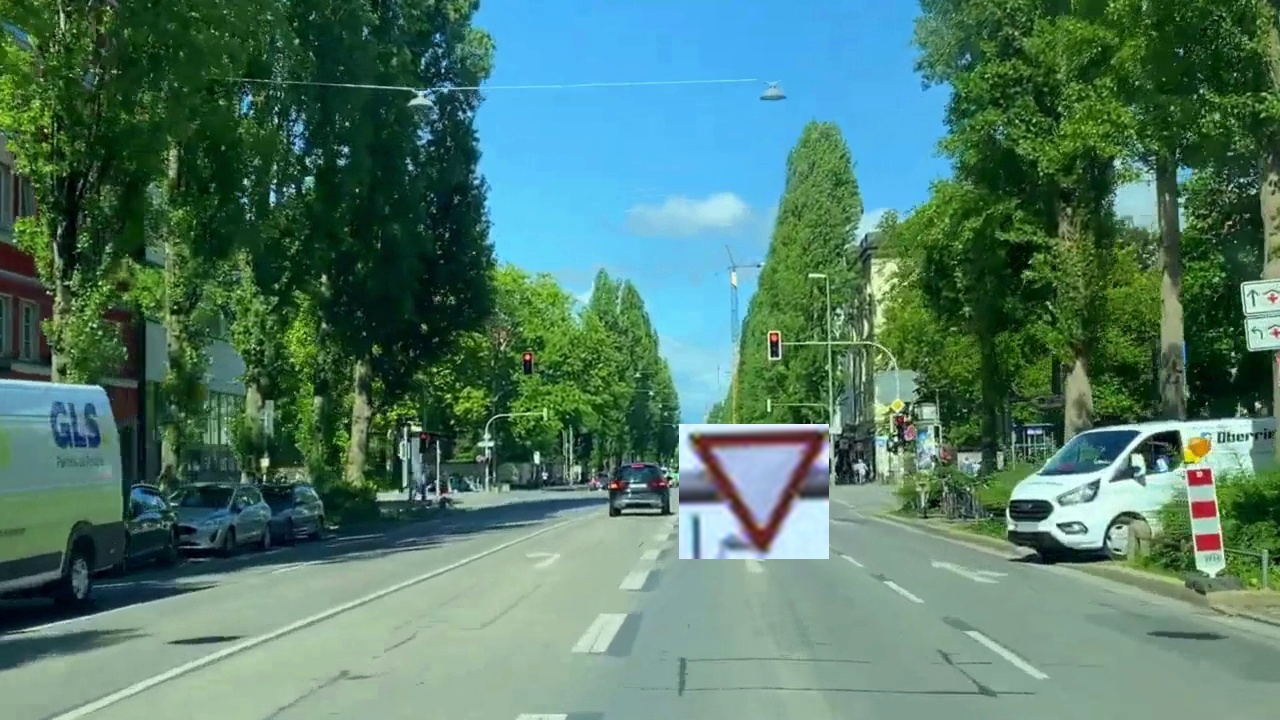Yield: (679, 424, 829, 559)
